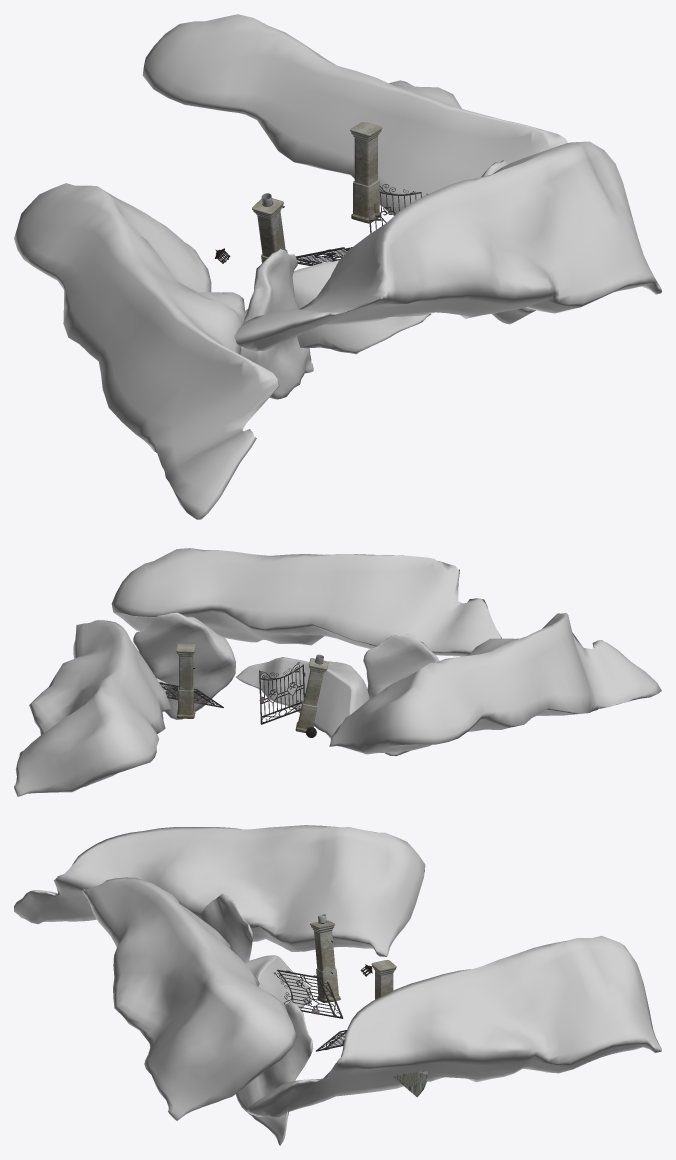
Rendered from Field.fbx.
3 views of the same model, one above another, from view 1: azimuth 30°, elevation 25°; view 2: azimuth 150°, elevation 25°; view 3: azimuth 270°, elevation 25° (orthographic). The views are drawn at different scales.
Parts seen in each view (by area): view 1: Rock8.001, Rock8.003, Rock8.002, Rock2, Rock7, pillar_left.001, pillar_right.001; view 2: Rock8.003, Rock8.001, Rock8.002, Rock2.001, Rock7, Rock2, pillar_left.001, gate_right, pillar_right.001, gate_left; view 3: Rock8.002, Rock8.001, Rock8.003, Rock2.001, Rock2, Rock7, pillar_right.001, gate_right, pillar_left.001, Box001_Part_64.001.
Boxes of the visible parts, box(x1,y1,x2,y2) form: Rock8.001: box(14, 183, 279, 519); Rock8.003: box(234, 141, 661, 351); Rock8.002: box(142, 14, 567, 215); Rock2: box(240, 248, 313, 399); Rock7: box(245, 261, 431, 354); pillar_left.001: box(350, 122, 382, 223); pillar_right.001: box(252, 198, 287, 262); Rock8.003: box(111, 548, 501, 656); Rock8.001: box(329, 613, 661, 754); Rock8.002: box(14, 620, 171, 796); Rock2.001: box(133, 612, 235, 719); Rock7: box(235, 657, 369, 738); Rock2: box(363, 634, 439, 756); pillar_left.001: box(176, 643, 195, 718); gate_right: box(259, 662, 305, 724); pillar_right.001: box(295, 658, 328, 733); gate_left: box(159, 682, 223, 707); Rock8.002: box(246, 935, 661, 1117); Rock8.001: box(14, 825, 425, 956); Rock8.003: box(82, 877, 297, 1120); Rock2.001: box(235, 1002, 313, 1145); Rock2: box(199, 894, 252, 962); Rock7: box(245, 955, 311, 1009); pillar_right.001: box(310, 920, 340, 1002); gate_right: box(273, 969, 343, 1018); pillar_left.001: box(371, 960, 396, 999); Box001_Part_64.001: box(393, 1071, 427, 1097).
Bounding box in the file's own units: 1145 × 398 × 1384.
